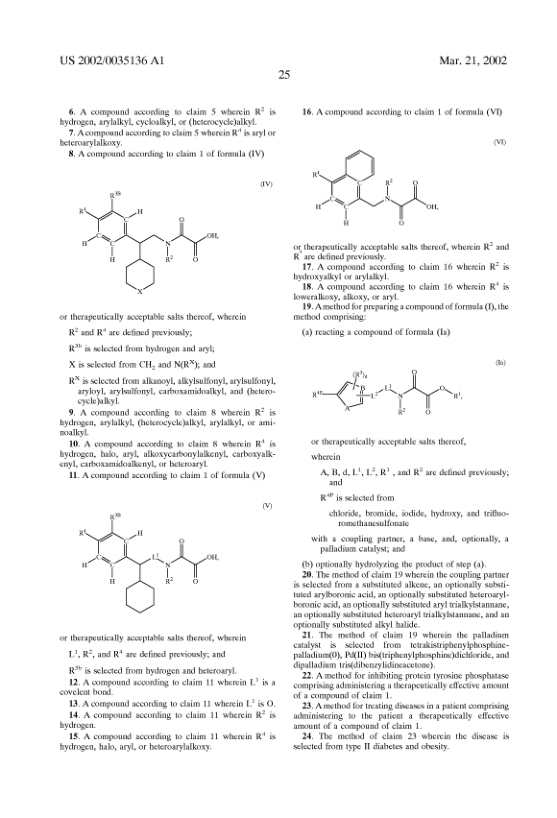compound-structure: (66, 180, 233, 299), (75, 505, 229, 617), (302, 136, 450, 236), (299, 358, 470, 419)
